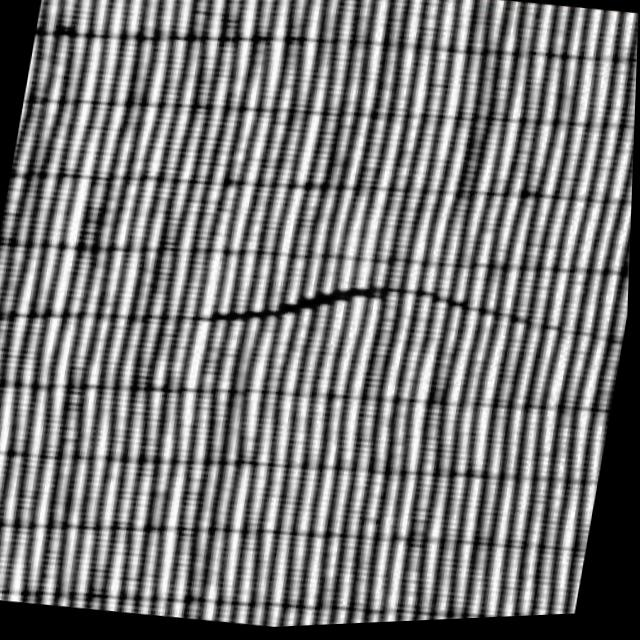Stitch: (177, 222, 508, 391)
